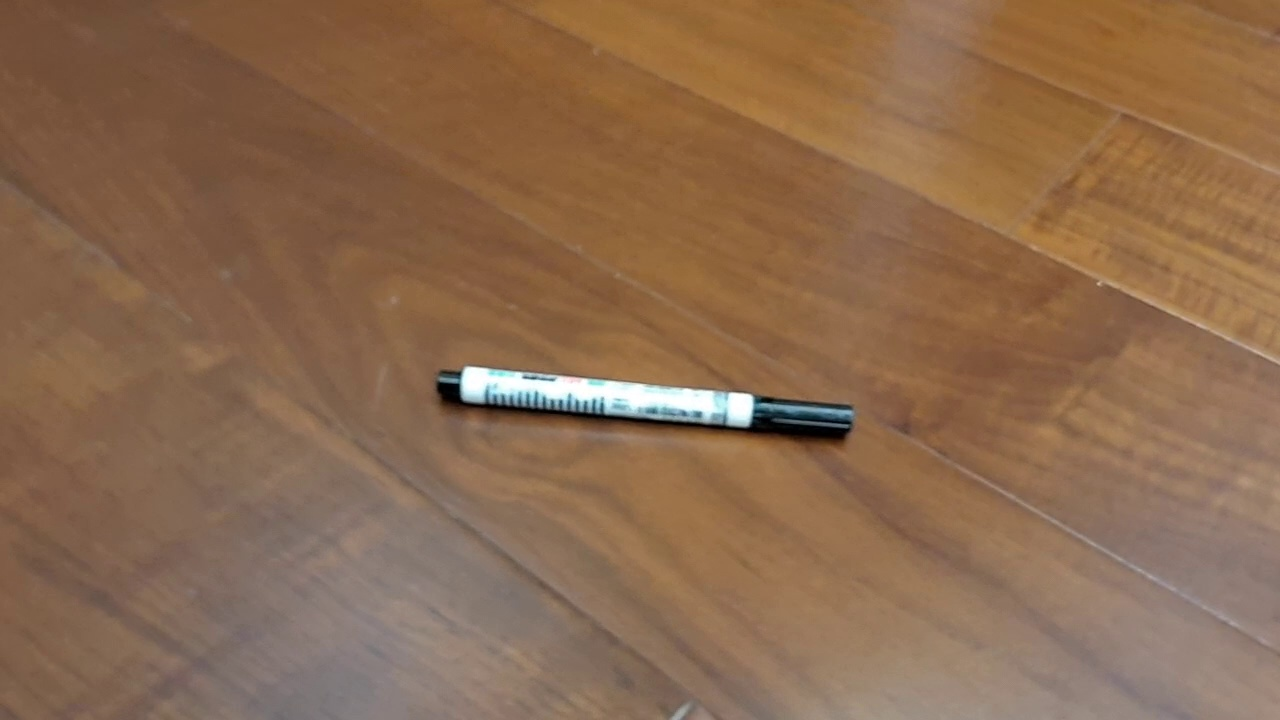pen: (436, 364, 855, 440)
